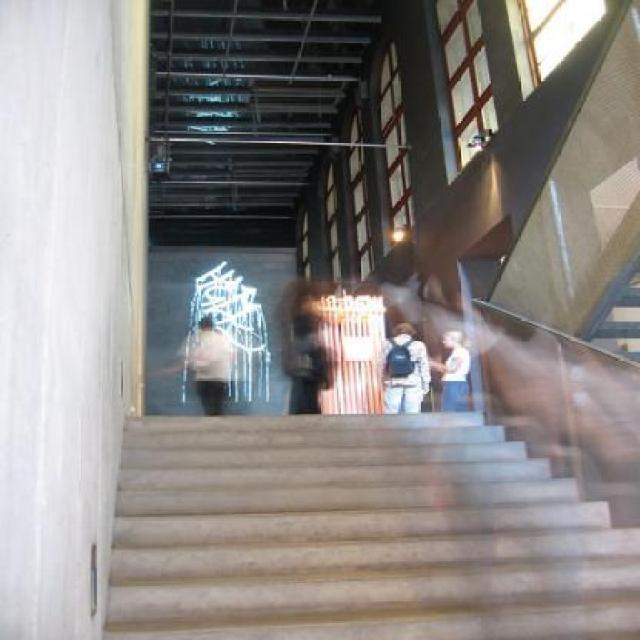stair: (93, 384, 638, 640)
